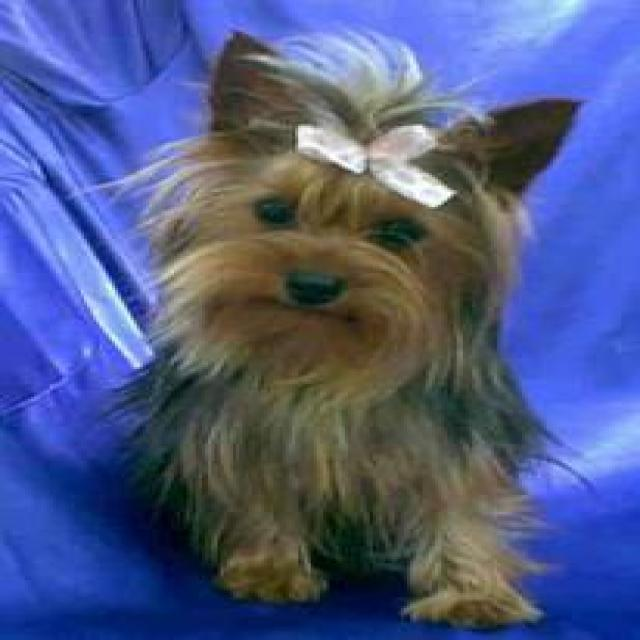dog-yorkshire_terrier: (130, 19, 593, 629)
